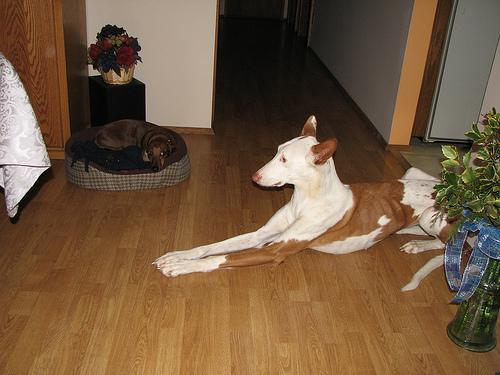Ibizan_hound: (149, 114, 470, 291)
